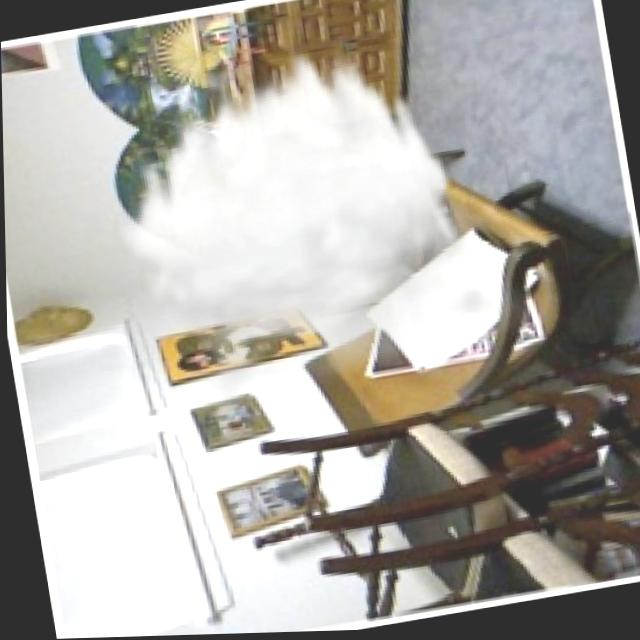no_helmet: (89, 12, 552, 437)
